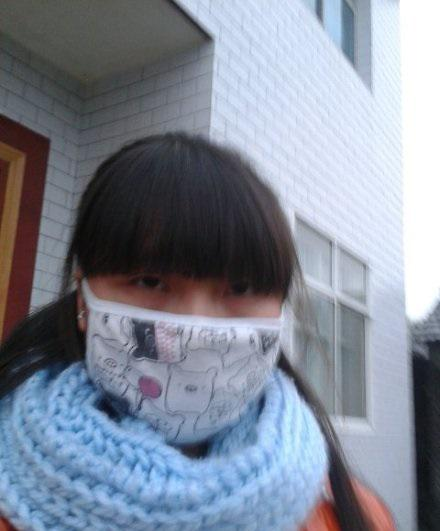OK: (88, 238, 295, 445)
